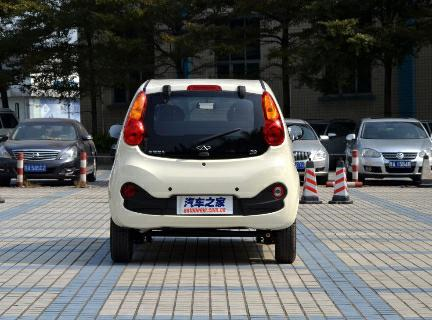奇瑞-QQ: (99, 71, 308, 271)
